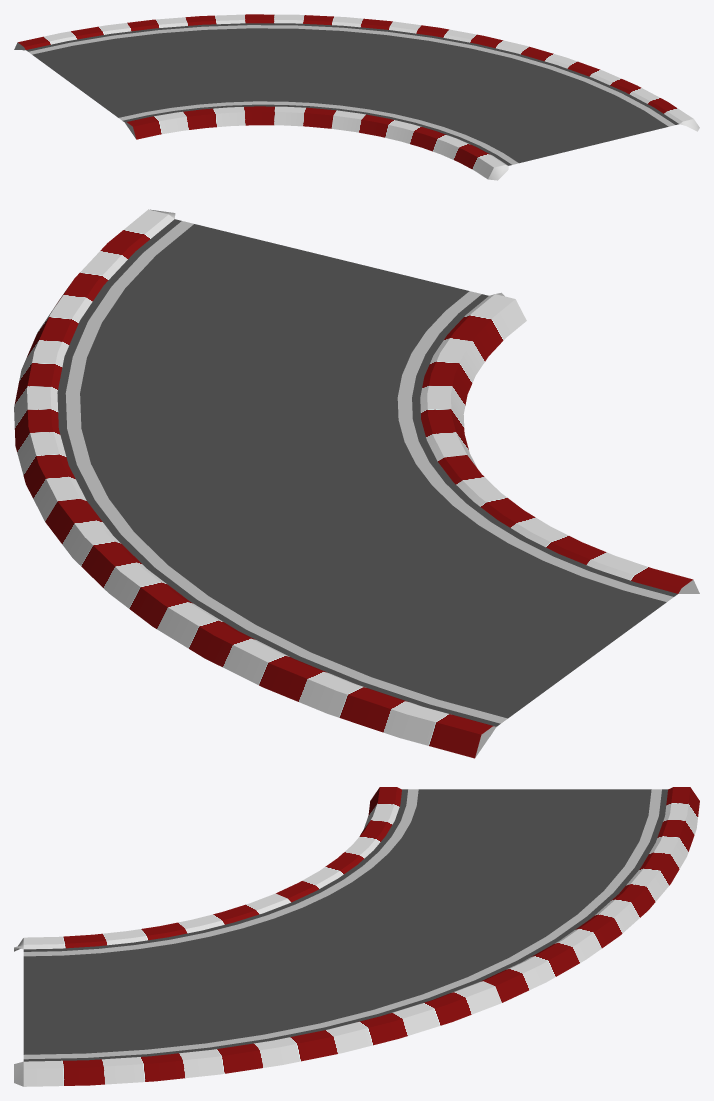
The model's file is Track_Right_High.FBX.
3 renders of one model, top to bottom at view 1: azimuth 30°, elevation 25°; view 2: azimuth 150°, elevation 25°; view 3: azimuth 270°, elevation 25°, orthographic. The views are drawn at different scales.
Parts seen in each view (by area): view 1: Track_Right_High, Track_Right_High_Apex_Right, Track_Right_High_Apex_Left; view 2: Track_Right_High, Track_Right_High_Apex_Left, Track_Right_High_Apex_Right; view 3: Track_Right_High, Track_Right_High_Apex_Left, Track_Right_High_Apex_Right.
Part boxes in pixels (x1,y1,x2,y2): Track_Right_High: (23, 23, 678, 165); Track_Right_High_Apex_Right: (125, 106, 508, 180); Track_Right_High_Apex_Left: (14, 14, 699, 131); Track_Right_High: (57, 219, 677, 726); Track_Right_High_Apex_Left: (14, 209, 496, 758); Track_Right_High_Apex_Right: (420, 292, 699, 593); Track_Right_High: (23, 789, 667, 1061); Track_Right_High_Apex_Left: (14, 787, 699, 1086); Track_Right_High_Apex_Right: (14, 787, 401, 951).
Bounding box in the file's own units: 2112 × 48.15 × 2142.
Materials: 1 (1 with a texture image).
